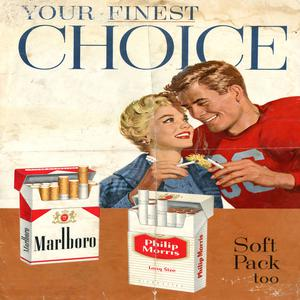cigarette: (205, 155, 228, 173), (174, 158, 200, 171)
